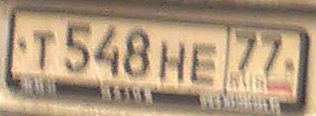character: (121, 21, 153, 82), (94, 21, 122, 81), (64, 21, 93, 78), (156, 39, 187, 87), (31, 25, 59, 75), (189, 38, 217, 88), (259, 27, 284, 72), (234, 29, 259, 72)
